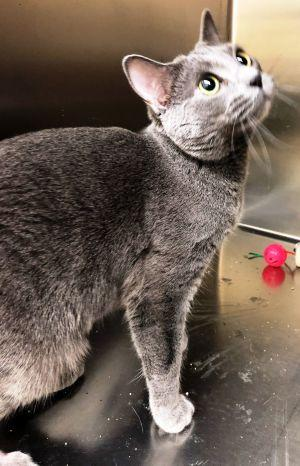rblue: (112, 11, 287, 178)
